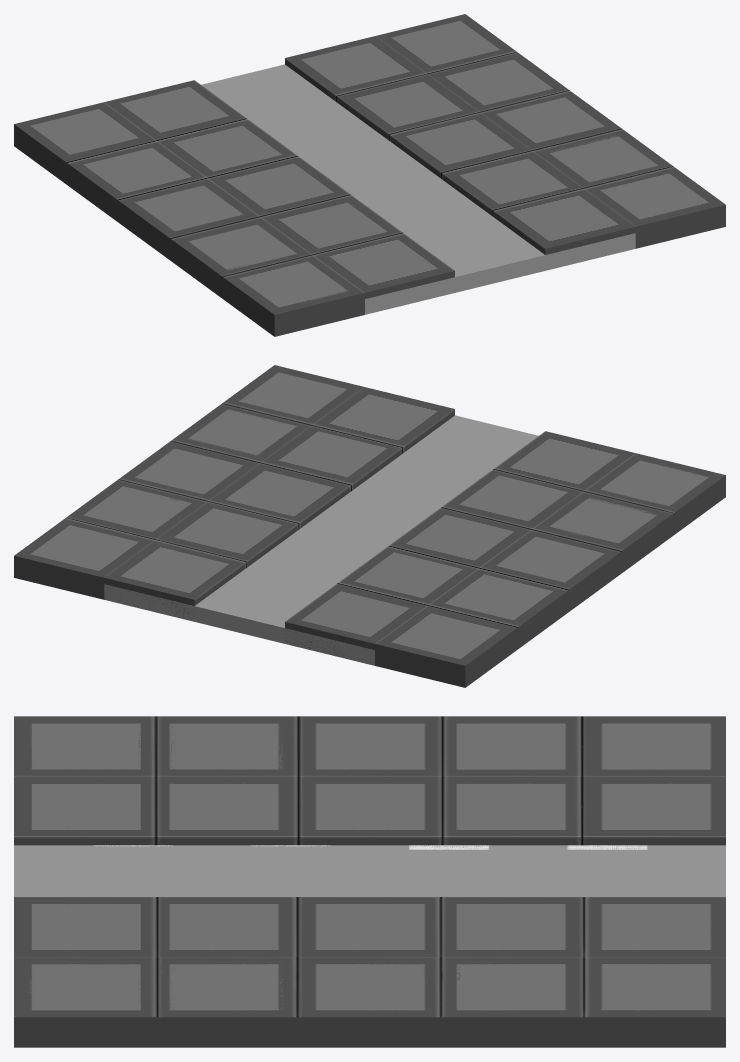
Rendered from sm_modular_roadSets_grp.fbx.
The picture shows the model from 3 angles, top to bottom: view 1: azimuth 30°, elevation 25°; view 2: azimuth 150°, elevation 25°; view 3: azimuth 270°, elevation 25°; orthographic projection. The views are drawn at different scales.
Visible parts, largest first — view 1: three_laneRoad_GEO, merg_L_laneRoad_GEO, L_two_laneRoad_GEO, R_two_laneRoad_GEO, merge_R_laneRoad_GEO; view 2: three_laneRoad_GEO, R_two_laneRoad_GEO, merg_L_laneRoad_GEO, L_two_laneRoad_GEO, merge_R_laneRoad_GEO; view 3: three_laneRoad_GEO, L_two_laneRoad_GEO, R_two_laneRoad_GEO, merg_L_laneRoad_GEO, merge_R_laneRoad_GEO.
Part boxes in pixels (x1,y1,x2,y2): three_laneRoad_GEO: (14, 14, 725, 336); merg_L_laneRoad_GEO: (144, 72, 718, 335); L_two_laneRoad_GEO: (104, 67, 534, 298); R_two_laneRoad_GEO: (228, 36, 691, 304); merge_R_laneRoad_GEO: (170, 64, 721, 336); three_laneRoad_GEO: (14, 365, 725, 687); R_two_laneRoad_GEO: (104, 387, 699, 627); merg_L_laneRoad_GEO: (96, 366, 725, 621); L_two_laneRoad_GEO: (194, 422, 635, 664); merge_R_laneRoad_GEO: (104, 366, 722, 665); three_laneRoad_GEO: (14, 716, 725, 1047); L_two_laneRoad_GEO: (14, 776, 725, 894); R_two_laneRoad_GEO: (14, 716, 725, 1046); merg_L_laneRoad_GEO: (14, 716, 567, 1047); merge_R_laneRoad_GEO: (14, 716, 725, 1047).
Size of the model in its own units: 30 by 1.4 by 30.
